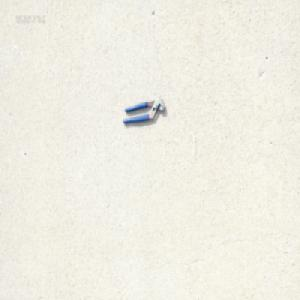Pliers: (121, 96, 165, 125)
